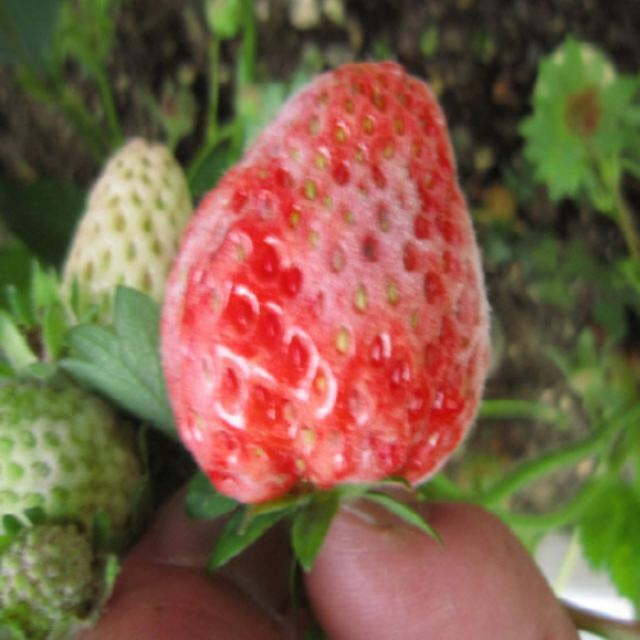Powdery Mildew Fruit: (156, 63, 492, 505)
